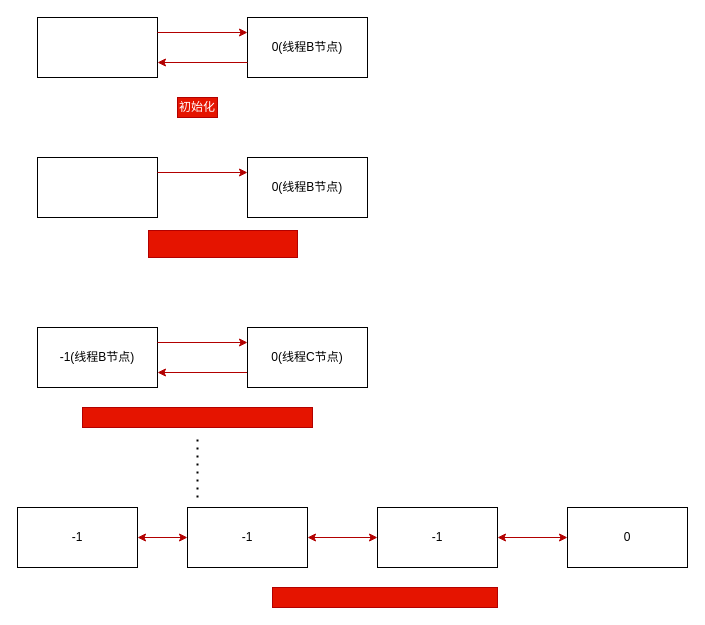
This 705x625 diagram has some shape labels left out. The centre of each missing label's shape, as x and y in pixels:
-1(虚拟节点): the point at 97,187
0(虚拟节点): the point at 97,47
没有取消动作的共享节状态: the point at 385,597
线程B执行shouldparkAfter函数: the point at 223,244
线程C进入队列: the point at 197,417
